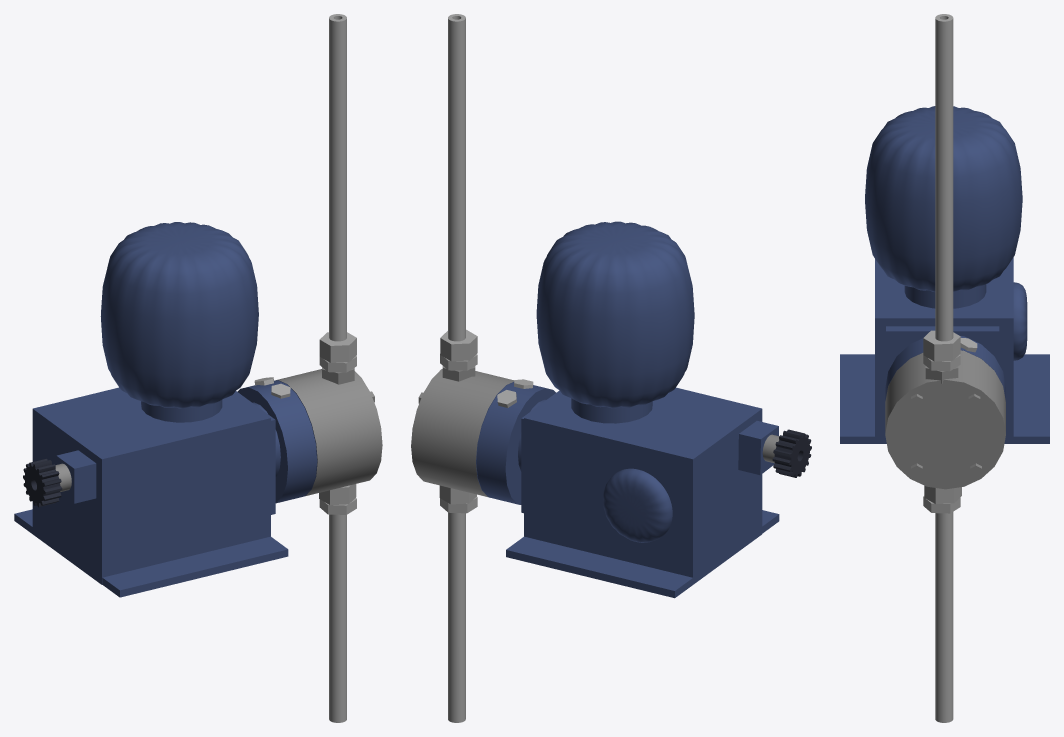
File: producepump.fbx
3 renders of one model, left to right at view 1: azimuth 30°, elevation 25°; view 2: azimuth 150°, elevation 25°; view 3: azimuth 270°, elevation 25°, orthographic.
Parts seen in each view (by area): view 1: pCube1, pCylinder5, pCylinder3, pPipe1, pCylinder2, pPipe2, pGear1, pCylinder4, pDisc5; view 2: pCube1, pCylinder5, pCylinder3, pPipe1, pCylinder2, pCylinder6, pPipe2, pGear1, pCylinder4, pDisc5; view 3: pCylinder5, pCube1, pCylinder3, pPipe1, pPipe2, pCylinder2, pCylinder6, pCylinder4, pDisc5, pDisc6, pDisc4, pDisc7 (+1 smaller).
Boxes of the visible parts, x1=… form: pCube1: x1=14, y1=387, x2=288, y2=597; pCylinder5: x1=100, y1=222, x2=258, y2=408; pCylinder3: x1=274, y1=369, x2=382, y2=496; pPipe1: x1=329, y1=14, x2=346, y2=341; pCylinder2: x1=237, y1=380, x2=317, y2=503; pPipe2: x1=329, y1=514, x2=346, y2=722; pGear1: x1=23, y1=458, x2=62, y2=507; pCylinder4: x1=141, y1=400, x2=222, y2=422; pDisc5: x1=319, y1=332, x2=356, y2=362; pCube1: x1=506, y1=387, x2=779, y2=598; pCylinder5: x1=536, y1=221, x2=694, y2=408; pCylinder3: x1=411, y1=369, x2=514, y2=497; pPipe1: x1=448, y1=14, x2=465, y2=341; pCylinder2: x1=476, y1=382, x2=555, y2=504; pCylinder6: x1=603, y1=468, x2=672, y2=542; pPipe2: x1=448, y1=512, x2=465, y2=722; pGear1: x1=772, y1=429, x2=811, y2=477; pCylinder4: x1=571, y1=398, x2=652, y2=423; pDisc5: x1=440, y1=329, x2=477, y2=361; pCylinder5: x1=865, y1=106, x2=1022, y2=291; pCube1: x1=840, y1=257, x2=1049, y2=443; pCylinder3: x1=885, y1=350, x2=1005, y2=489; pPipe1: x1=935, y1=14, x2=953, y2=341; pPipe2: x1=935, y1=512, x2=953, y2=722; pCylinder2: x1=885, y1=336, x2=1005, y2=401; pCylinder6: x1=1013, y1=282, x2=1027, y2=360; pCylinder4: x1=904, y1=284, x2=986, y2=308; pDisc5: x1=923, y1=330, x2=960, y2=361; pDisc6: x1=924, y1=485, x2=961, y2=504; pDisc4: x1=923, y1=354, x2=960, y2=371; pDisc7: x1=923, y1=496, x2=960, y2=513.
Bounding box in the file's own units: 4.83 × 9.42 × 2.55.
